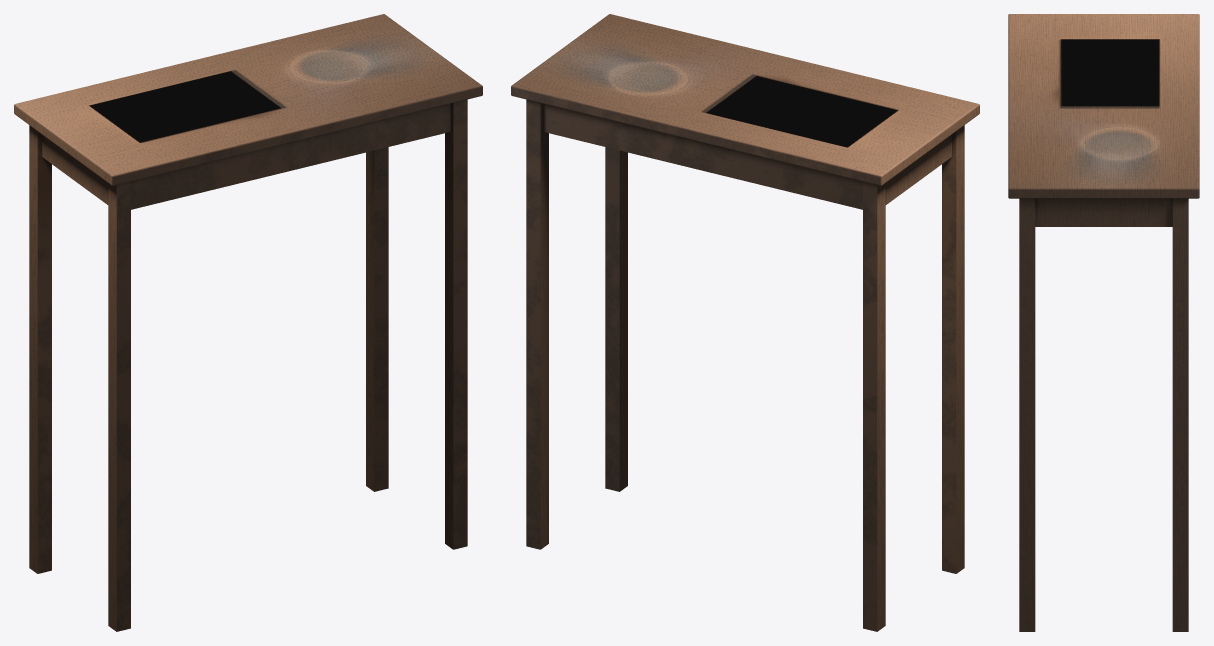
The model's file is 807_knife.glb.
3 views of the same model, side by side, from view 1: azimuth 30°, elevation 25°; view 2: azimuth 150°, elevation 25°; view 3: azimuth 270°, elevation 25° (orthographic). The views are drawn at different scales.
Parts seen in each view (by area): view 1: Table; view 2: Table; view 3: Table.
Boxes of the visible parts, bbox=[...] form: Table: bbox=[14, 14, 482, 631]; Table: bbox=[511, 14, 979, 631]; Table: bbox=[1008, 14, 1199, 631].
Size of what is drawn, in the model's own units: 2.6 by 3.1 by 1.2.
Materials: 1 (1 with a texture image).
